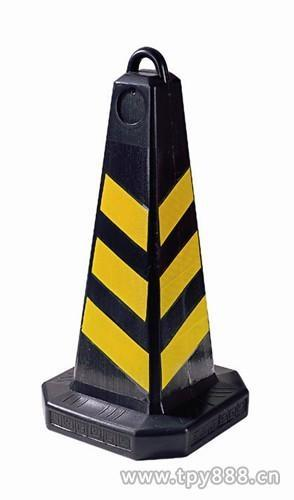cone_barrel: (53, 50, 232, 455)
